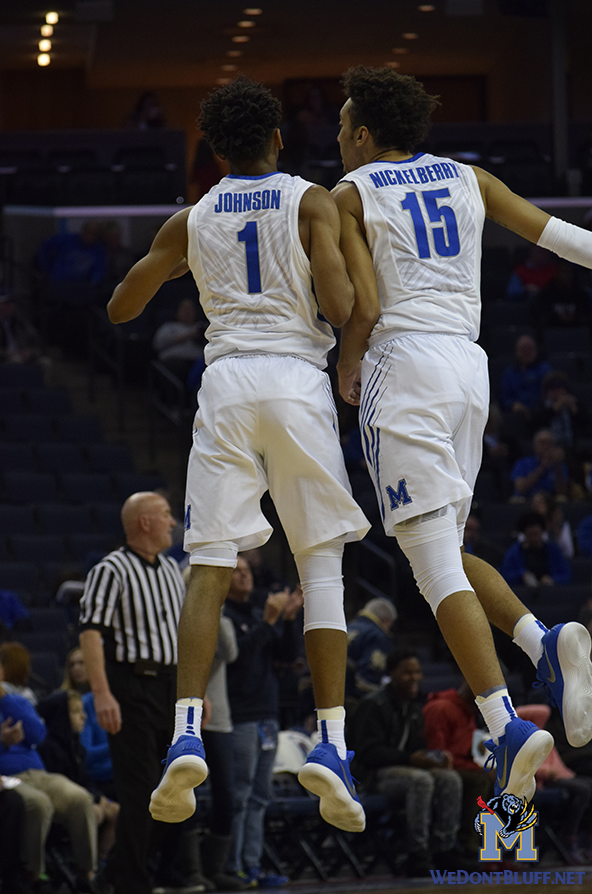player: (103, 80, 374, 833), (314, 69, 592, 791)
